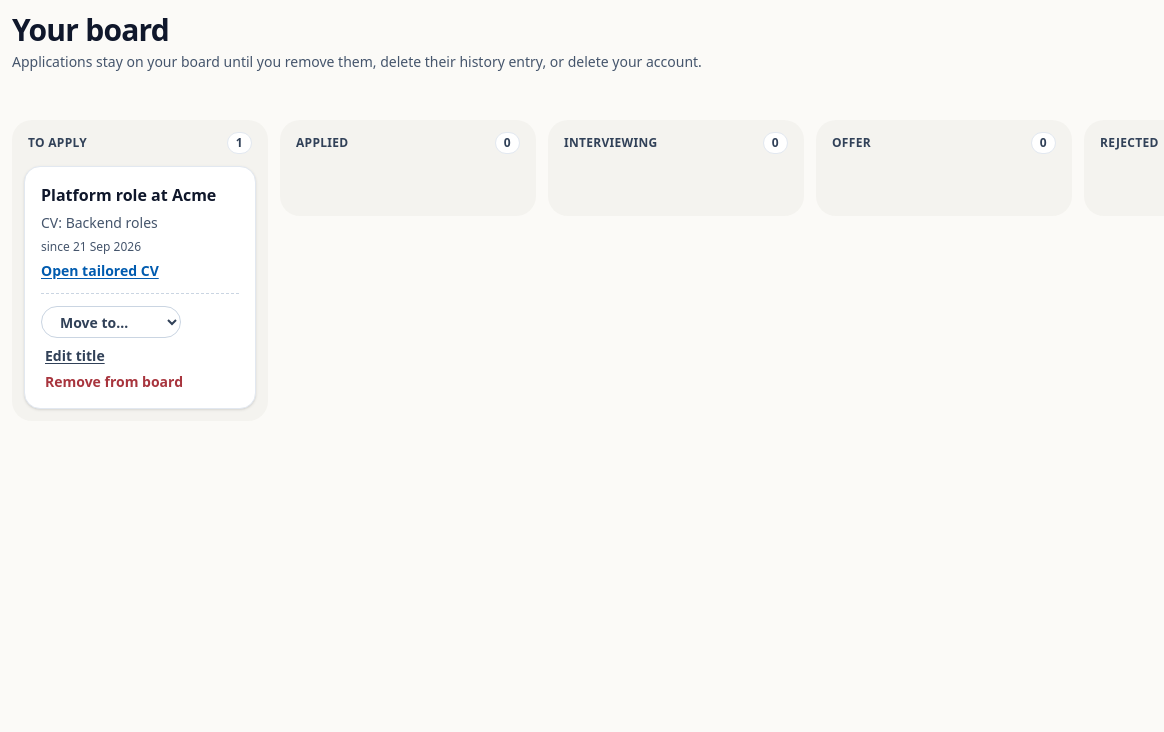
Retitle (AC-36) › Clear title sends null, and the card falls back to the posting title
expect the text "Platform role at Acme" is shown: met, box [41,183,239,207]
What coordinates should you click on to do the following:
click the button "Edit title"
I would click on:
 (75, 356)
Its box is [41,346,109,366].
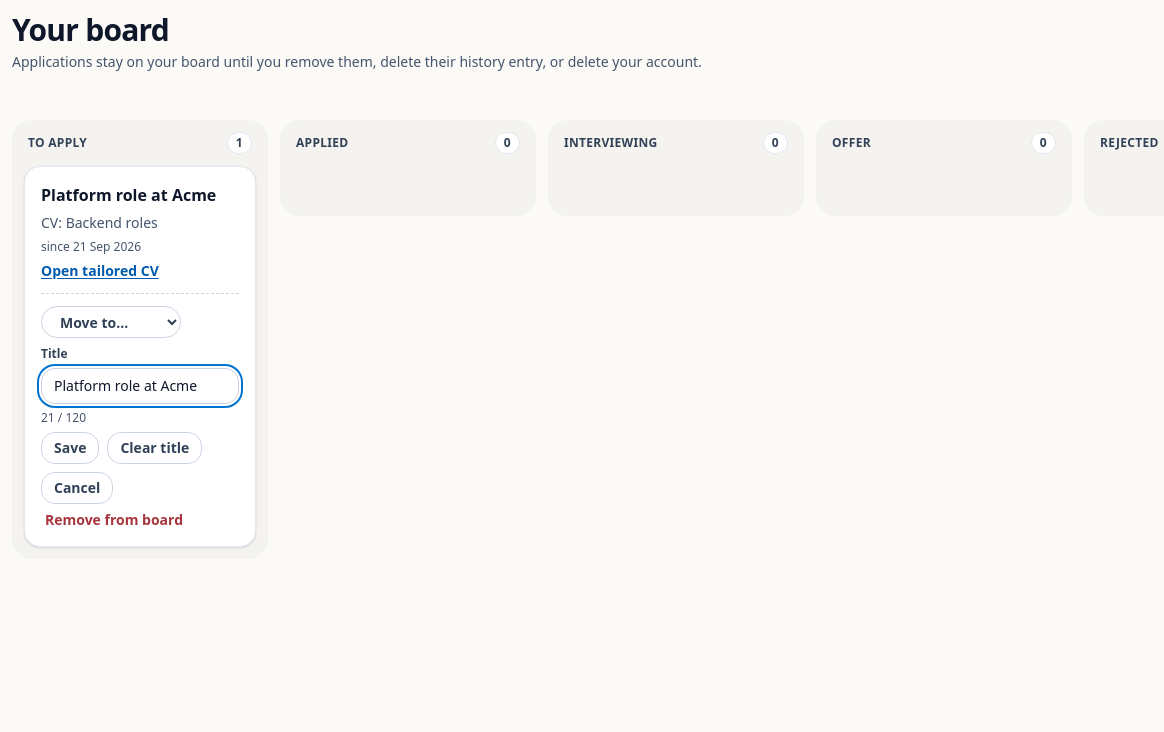
What coordinates should you click on to do the following:
click the button "Clear title"
I would click on:
 (155, 448)
Its box is [107,432,202,464].
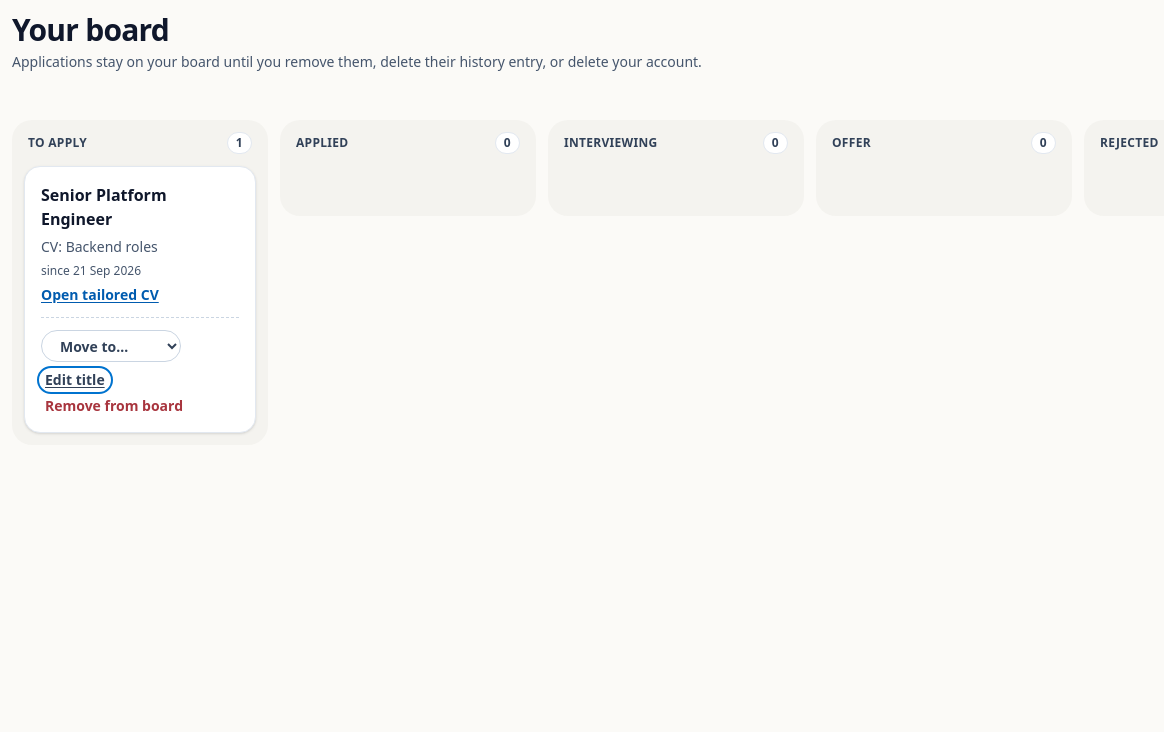
expect the text "Senior Platform Engineer" is shown: met, box [41,184,167,230]
